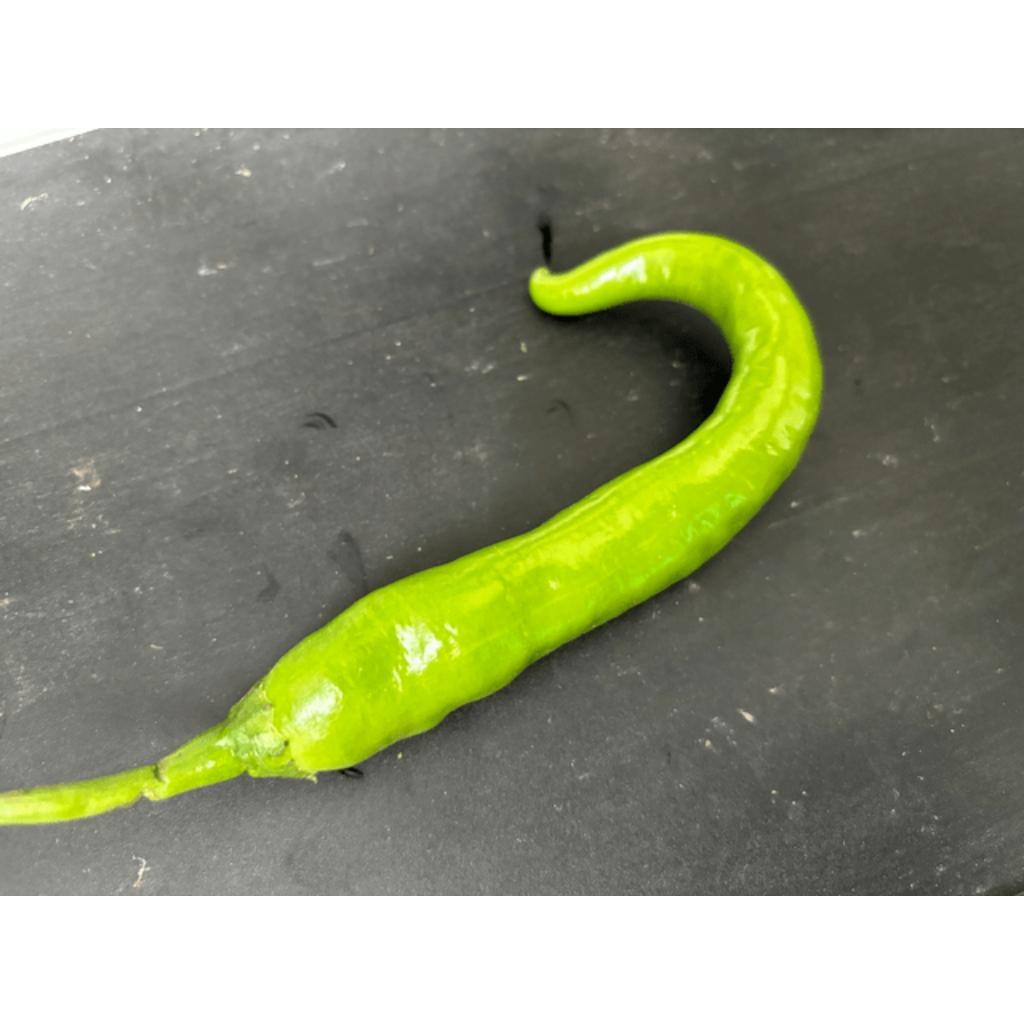chili: (225, 231, 823, 781)
